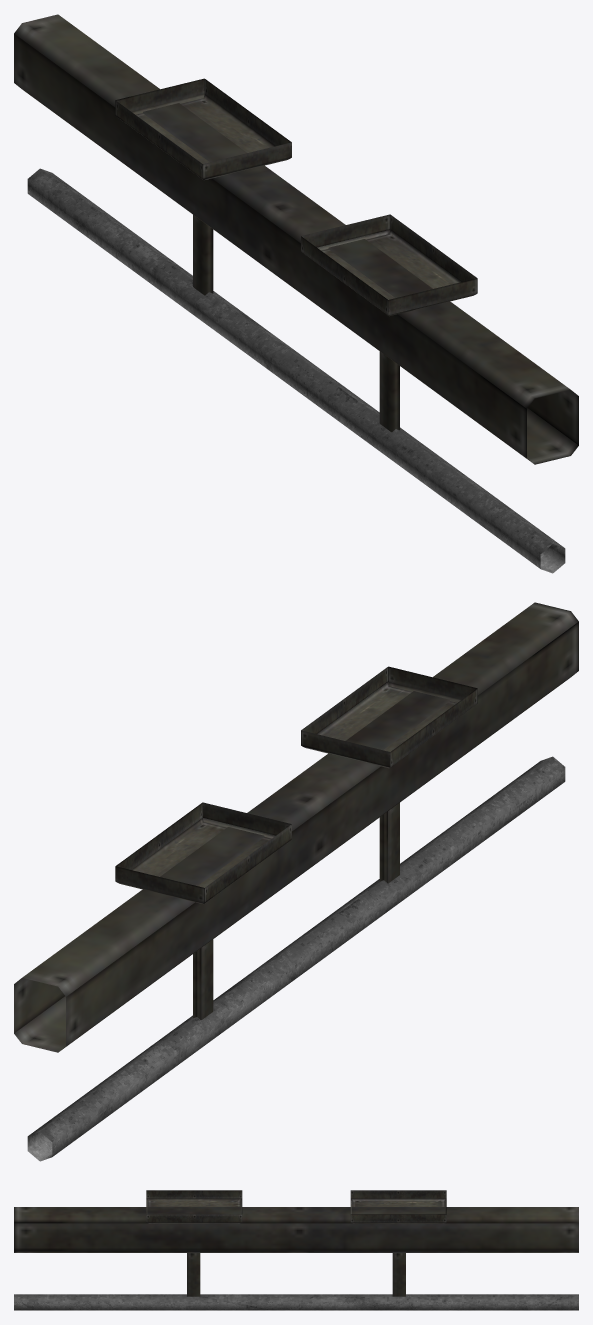
Rendered from railing_ceiling_straight.dae.
The picture shows the model from 3 angles, top to bottom: view 1: azimuth 30°, elevation 25°; view 2: azimuth 150°, elevation 25°; view 3: azimuth 270°, elevation 25°; orthographic projection. The views are drawn at different scales.
Visible parts, largest first — view 1: polySurface656, polySurface638; view 2: polySurface656, polySurface638; view 3: polySurface656, polySurface638.
Boxes of the visible parts, bbox=[...] form: polySurface656: bbox=[14, 14, 578, 464]; polySurface638: bbox=[27, 168, 565, 573]; polySurface656: bbox=[14, 602, 578, 1052]; polySurface638: bbox=[27, 756, 565, 1161]; polySurface656: bbox=[14, 1190, 578, 1296]; polySurface638: bbox=[14, 1294, 578, 1310].
Size of the model in its own units: 0.4015 by 0.8463 by 4.
